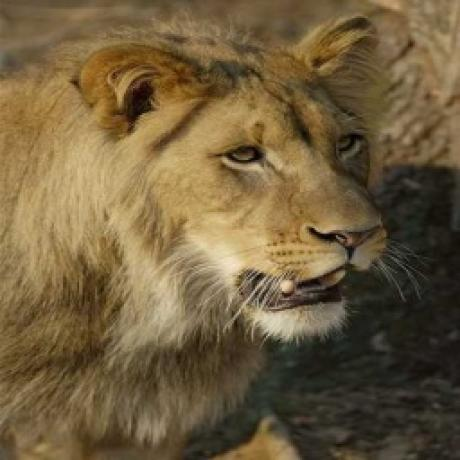Lion: (0, 11, 392, 460)
